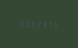eight: (29, 19, 34, 27)
five: (53, 20, 58, 28)
seven: (47, 20, 52, 28)
three: (41, 20, 46, 28)
two: (35, 19, 40, 28)
zero: (17, 19, 22, 27), (23, 19, 28, 27)
